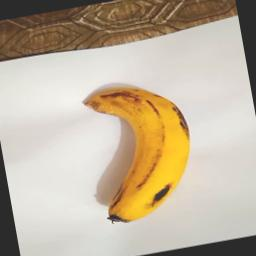Banana Unripe: (80, 74, 206, 230)
